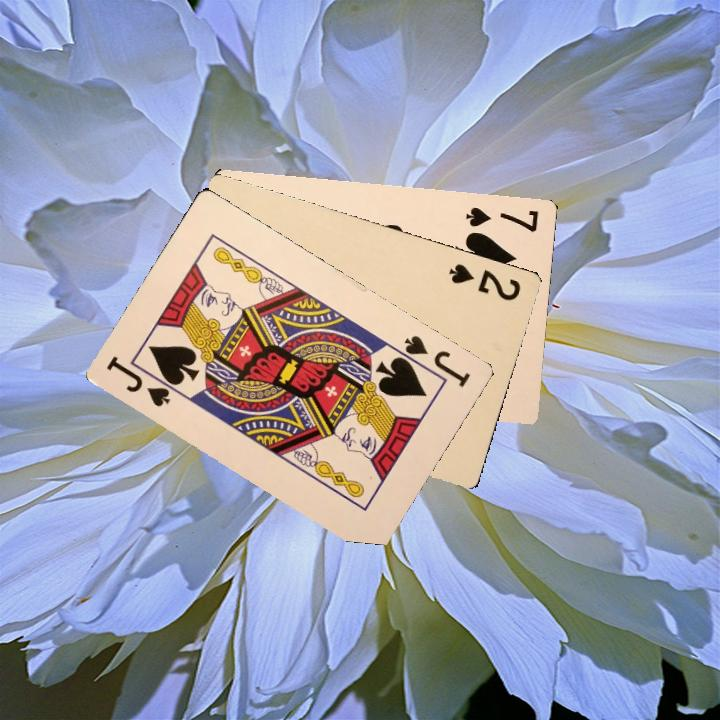2s: (445, 259, 523, 303)
7s: (462, 203, 541, 235)
Js: (102, 351, 183, 410), (395, 331, 473, 390)
